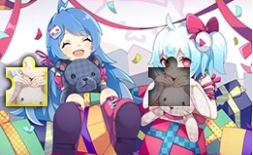gap: (148, 56, 189, 105)
